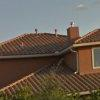Chimney: (58, 12, 80, 43)
